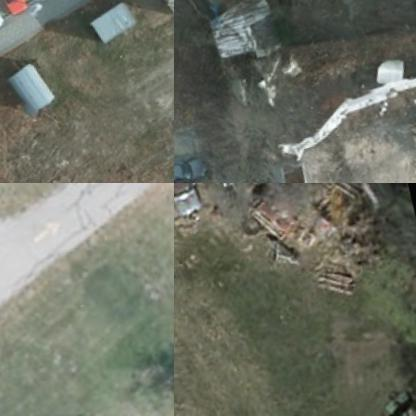car: (174, 149, 210, 182), (0, 0, 32, 20)
pickup: (174, 183, 208, 221)
